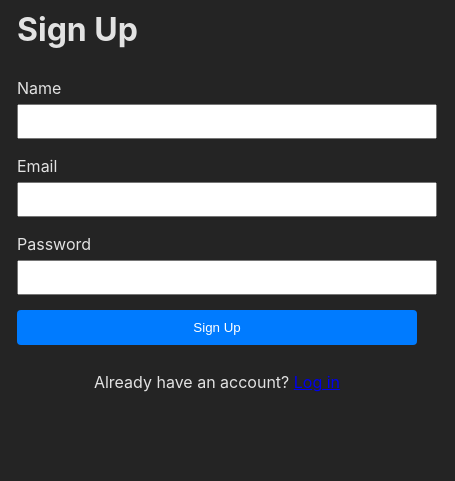
it: SignupPage › should display specific password requirement errors
Password without uppercase
In the password field labelled "Password": x=227, y=277 [17,260,437,295], type "password123!"
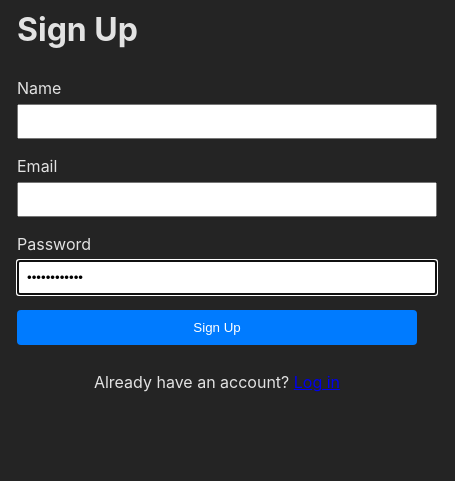
Click the button "Sign Up": x=217, y=327 [17,310,417,345]
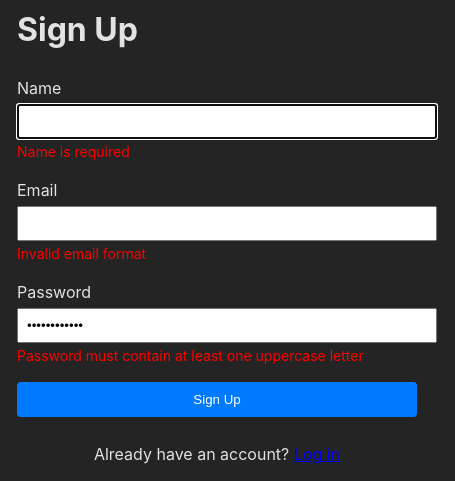
expect the text "Password must contain at least one uppercase letter" is shown: met, box [17,347,364,364]
